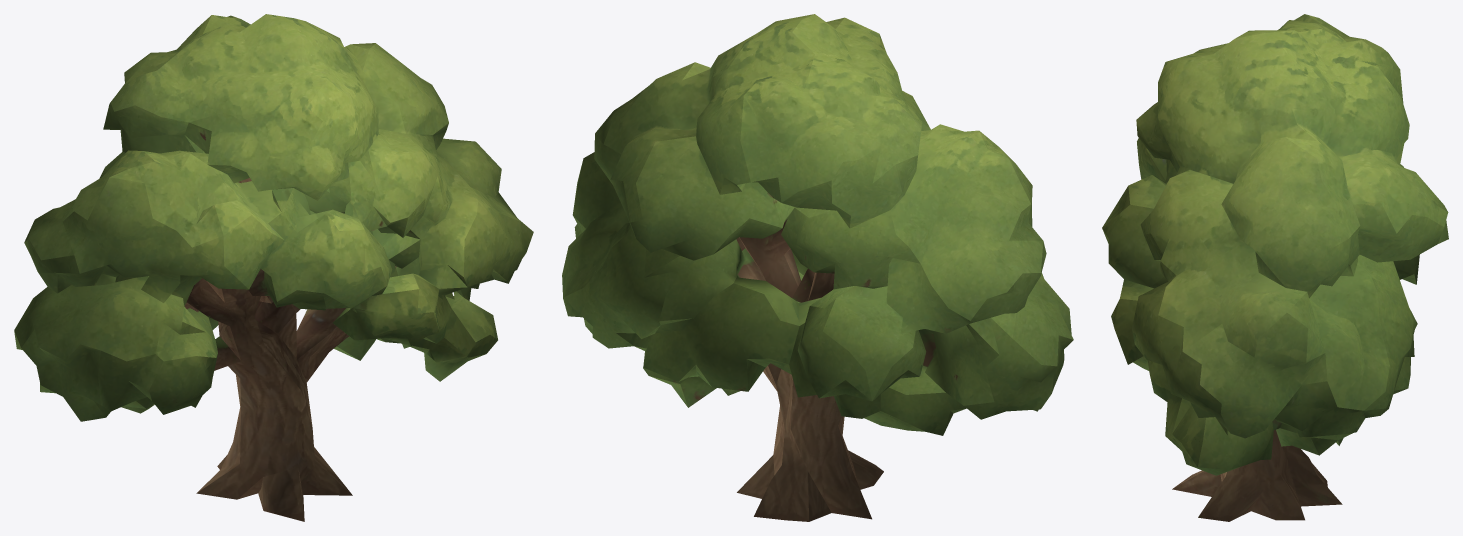
File: verdant-guardian.glb
3 views of the same model, side by side, from view 1: azimuth 30°, elevation 25°; view 2: azimuth 150°, elevation 25°; view 3: azimuth 270°, elevation 25° (orthographic). The views are drawn at different scales.
Visible parts, largest first — view 1: geometry_0; view 2: geometry_0; view 3: geometry_0.
Part boxes in pixels (left/top/right/bottom): geometry_0: left=14, top=14, right=533, bottom=521; geometry_0: left=562, top=14, right=1073, bottom=521; geometry_0: left=1102, top=14, right=1448, bottom=521.
Size of the model in its own units: 1.92 by 1.76 by 1.18.
Materials: 1 (1 with a texture image).
